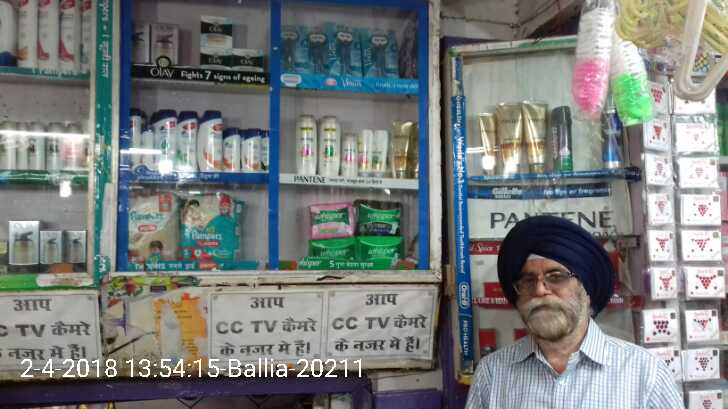gillete: (551, 104, 571, 171)
venus: (364, 27, 399, 77), (331, 21, 361, 76), (282, 24, 307, 71), (309, 29, 326, 75)
